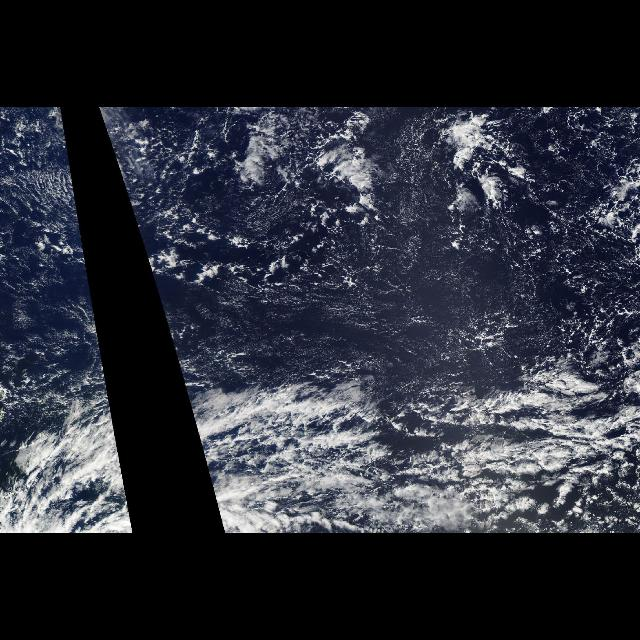Fish: (223, 391, 635, 534)
Gravel: (99, 110, 635, 246), (0, 111, 86, 246)
Sugar: (149, 242, 639, 378), (0, 261, 104, 369)
